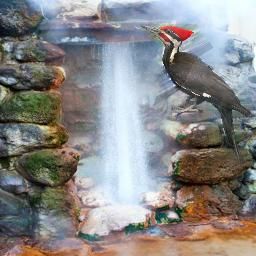Woodpecker: (139, 24, 254, 165)
